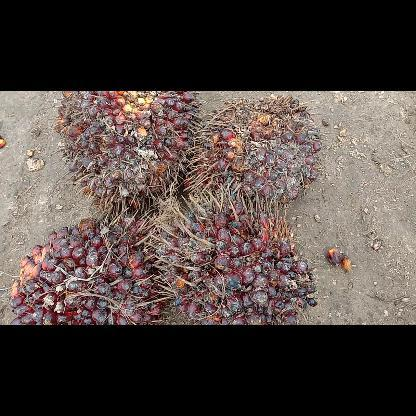TBS masak: (150, 182, 316, 324), (9, 208, 167, 324), (54, 90, 204, 212), (186, 94, 326, 204)
